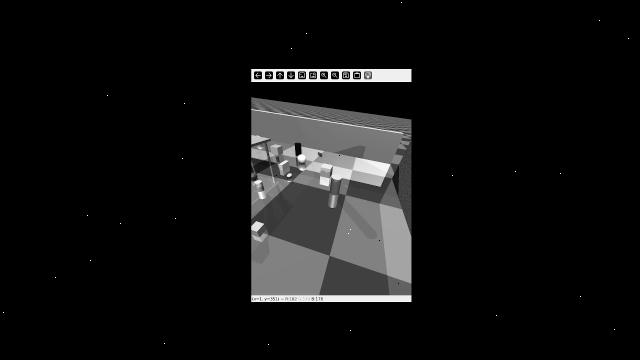cilindro: (329, 174, 346, 198), (255, 178, 265, 192), (294, 142, 303, 156), (275, 155, 279, 163)
cuadrado: (250, 220, 267, 237), (270, 143, 284, 156), (321, 164, 334, 178)
esfera: (296, 155, 307, 163), (251, 172, 259, 181), (256, 141, 263, 151), (286, 173, 294, 179), (317, 150, 321, 154), (320, 153, 322, 156)
rectangulo: (279, 158, 290, 171)
